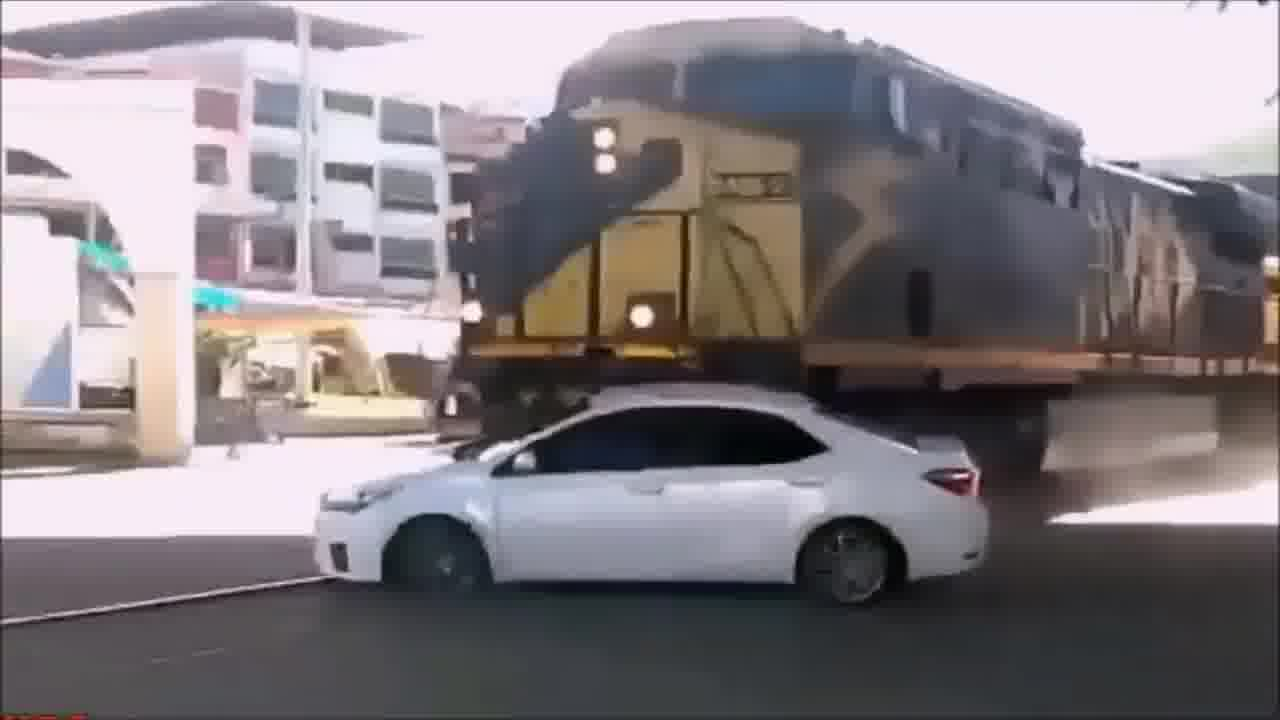crossing railway track: (315, 345, 1056, 626)
